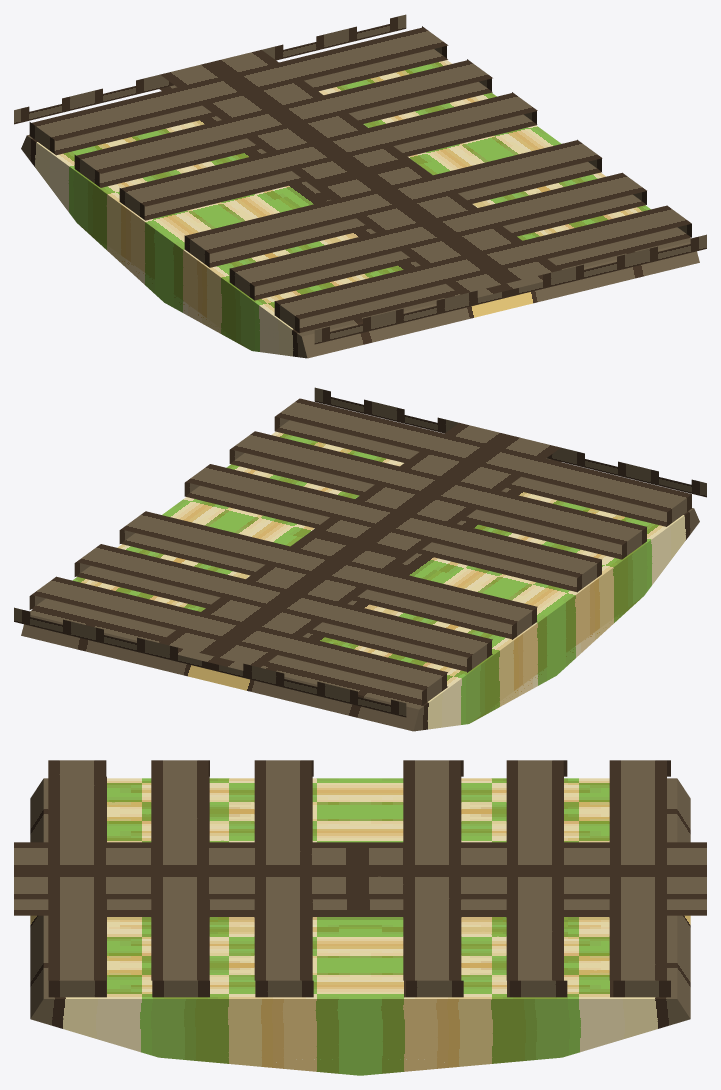
The picture shows the model from 3 angles, top to bottom: view 1: azimuth 30°, elevation 25°; view 2: azimuth 150°, elevation 25°; view 3: azimuth 270°, elevation 25°; orthographic projection. The views are drawn at different scales.
Parts seen in each view (by area): view 1: ar1_13; view 2: ar1_13; view 3: ar1_13.
Boxes of the visible parts, bbox=[...] form: ar1_13: bbox=[14, 14, 706, 358]; ar1_13: bbox=[14, 387, 706, 731]; ar1_13: bbox=[14, 760, 706, 1075].
Bounding box in the file's own units: 37.51 × 7.53 × 49.77.
Materials: 1 (1 with a texture image).
